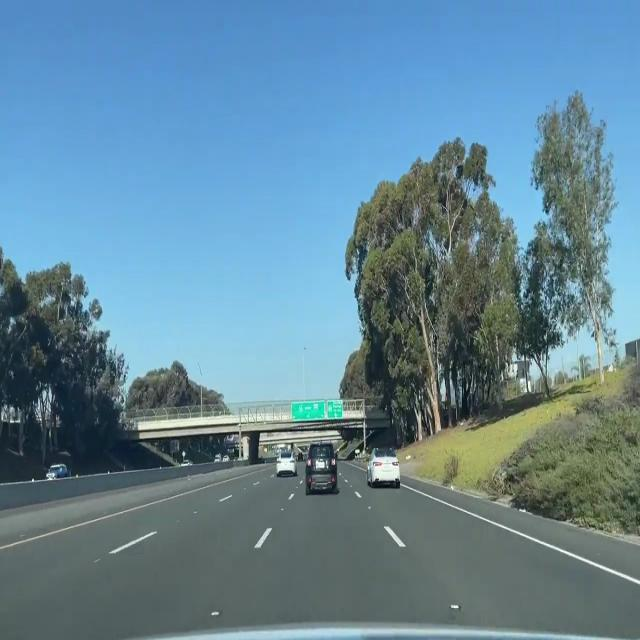street-signs: (291, 401, 325, 420), (326, 399, 344, 420)
